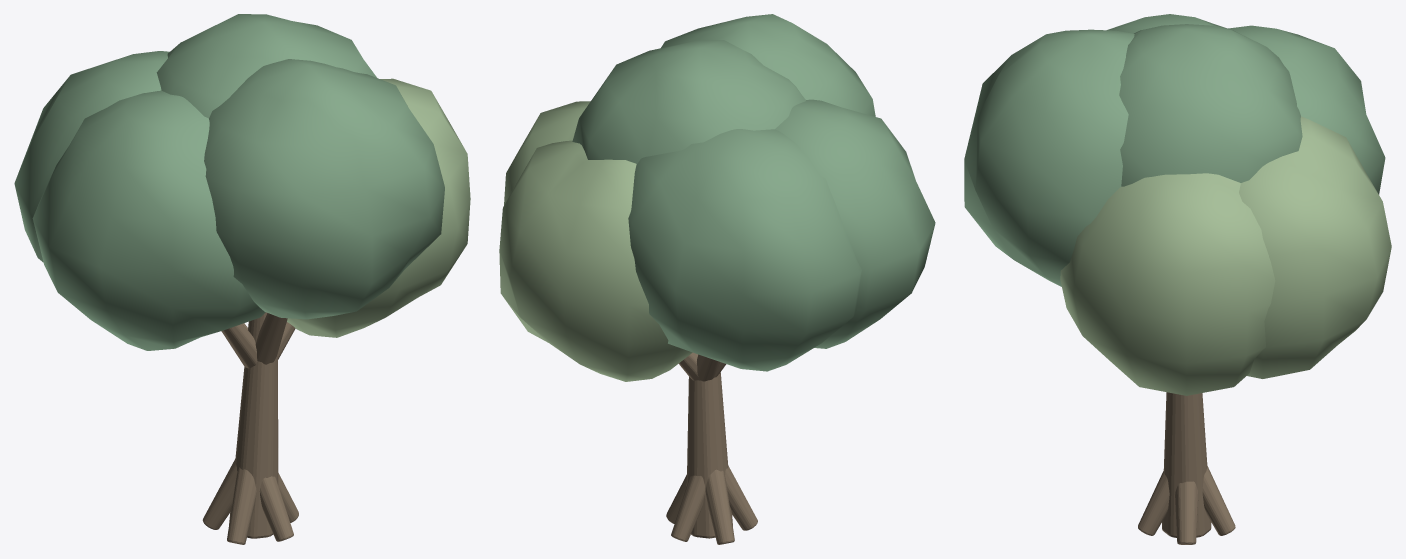
Rendered from SM_Broadleaf_0_UV7307.fbx.
3 views of the same model, side by side, from view 1: azimuth 30°, elevation 25°; view 2: azimuth 150°, elevation 25°; view 3: azimuth 270°, elevation 25° (orthographic). The views are drawn at different scales.
Visible parts, largest first — view 1: SM_Broadleaf_0_UV7307; view 2: SM_Broadleaf_0_UV7307; view 3: SM_Broadleaf_0_UV7307.
Boxes of the visible parts, bbox=[...] form: SM_Broadleaf_0_UV7307: bbox=[14, 14, 470, 544]; SM_Broadleaf_0_UV7307: bbox=[499, 14, 935, 544]; SM_Broadleaf_0_UV7307: bbox=[964, 14, 1391, 544].
Size of the model in its own units: 782 by 690 by 900.
